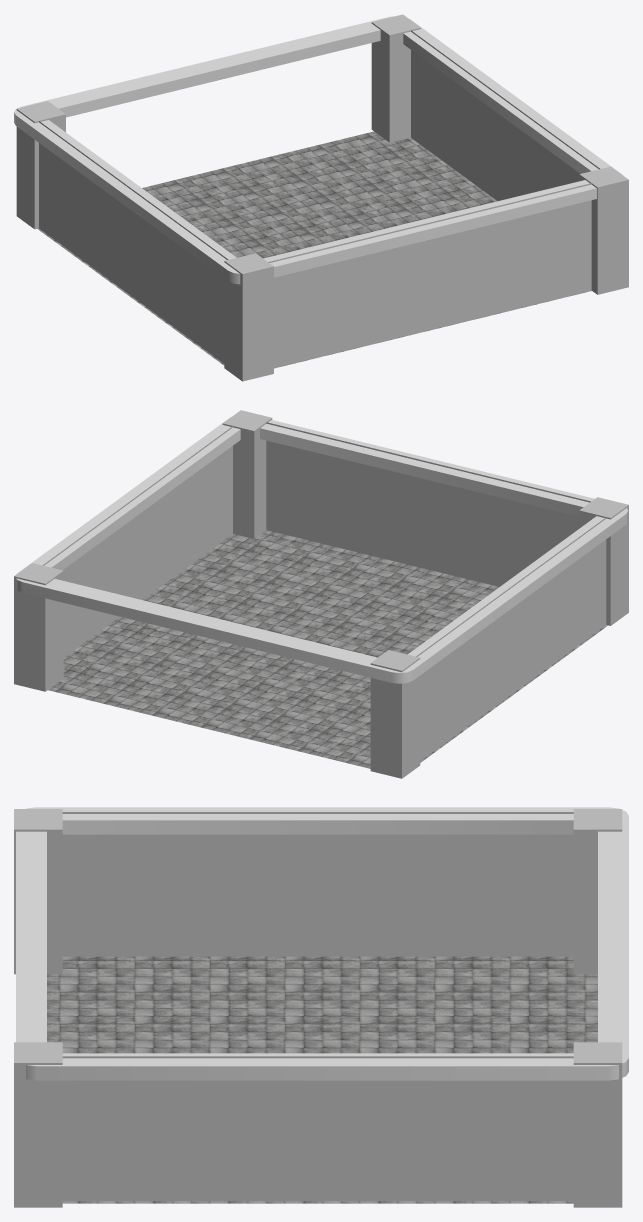
The model's file is LAB envi.fbx.
3 renders of one model, top to bottom at view 1: azimuth 30°, elevation 25°; view 2: azimuth 150°, elevation 25°; view 3: azimuth 270°, elevation 25°, orthographic. The views are drawn at different scales.
Visible parts, largest first — view 1: Cube.007, Plane.129, Plane.128, Cube.005, Cube.006, Cube.003, Cube.001, Cube.004, Cube; view 2: Plane.128, Plane.129, Cube.007, Cube.005, Cube.006, Cube, Cube.001, Cube.004, Cube.003; view 3: Cube.005, Cube.006, Plane.128, Plane.129, Cube.001, Cube.004, Cube, Cube.003.
Part boxes in pixels (x1,y1,x2,y2): Cube.007: (268,183,591,367); Plane.129: (14,16,622,284); Plane.128: (37,131,591,368); Cube.005: (39,121,228,363); Cube.006: (411,30,599,200); Cube.003: (224,253,273,381); Cube.001: (371,14,420,142); Cube.004: (579,166,628,294); Cube: (16,101,65,229); Plane.128: (48,530,607,768); Plane.129: (16,417,628,683); Cube.007: (266,422,590,586); Cube.005: (416,517,606,760); Cube.006: (43,426,232,657); Cube: (370,650,420,778); Cube.001: (14,563,63,691); Cube.004: (222,410,272,538); Cube.003: (579,497,628,625); Cube.005: (62,812,573,956); Cube.006: (62,1056,573,1200); Plane.128: (47,956,597,1203); Plane.129: (16,807,628,1080); Cube.001: (573,1042,622,1207); Cube.004: (14,1042,62,1207); Cube: (573,809,622,974); Cube.003: (14,809,62,974).
Bounding box in the file's own units: 1056 × 275 × 1059.
